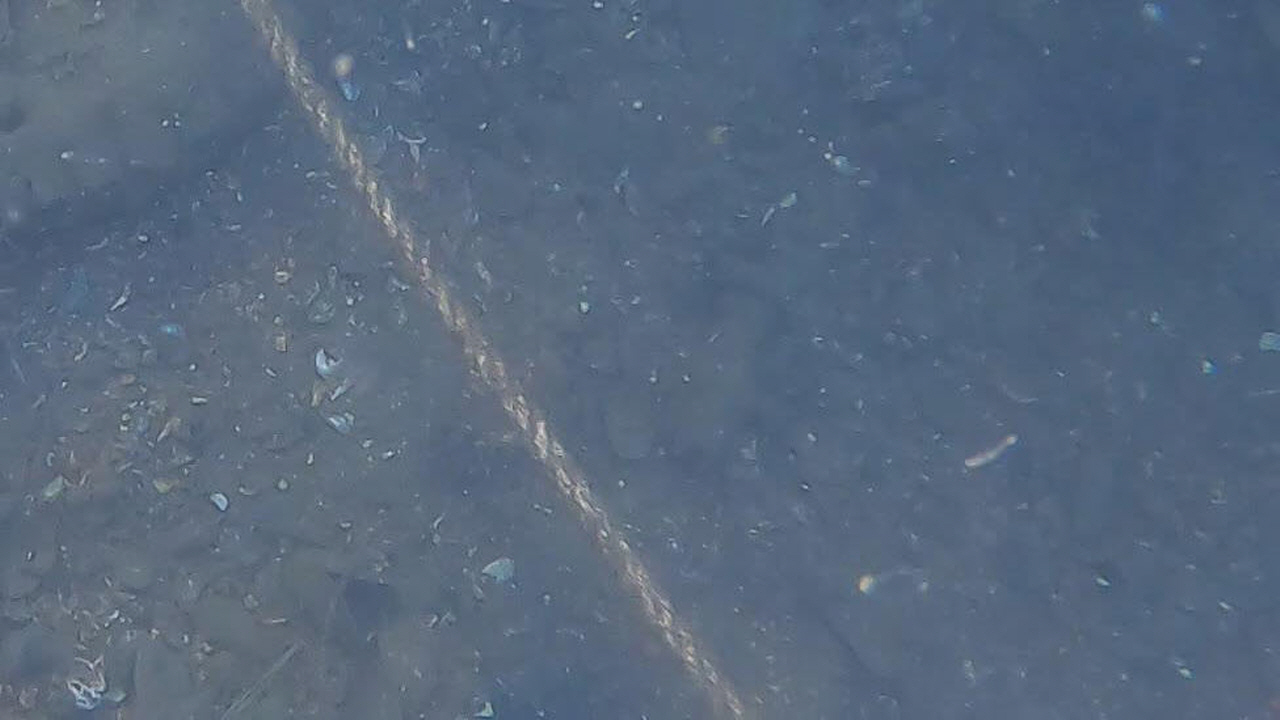rope: (243, 0, 748, 720)
